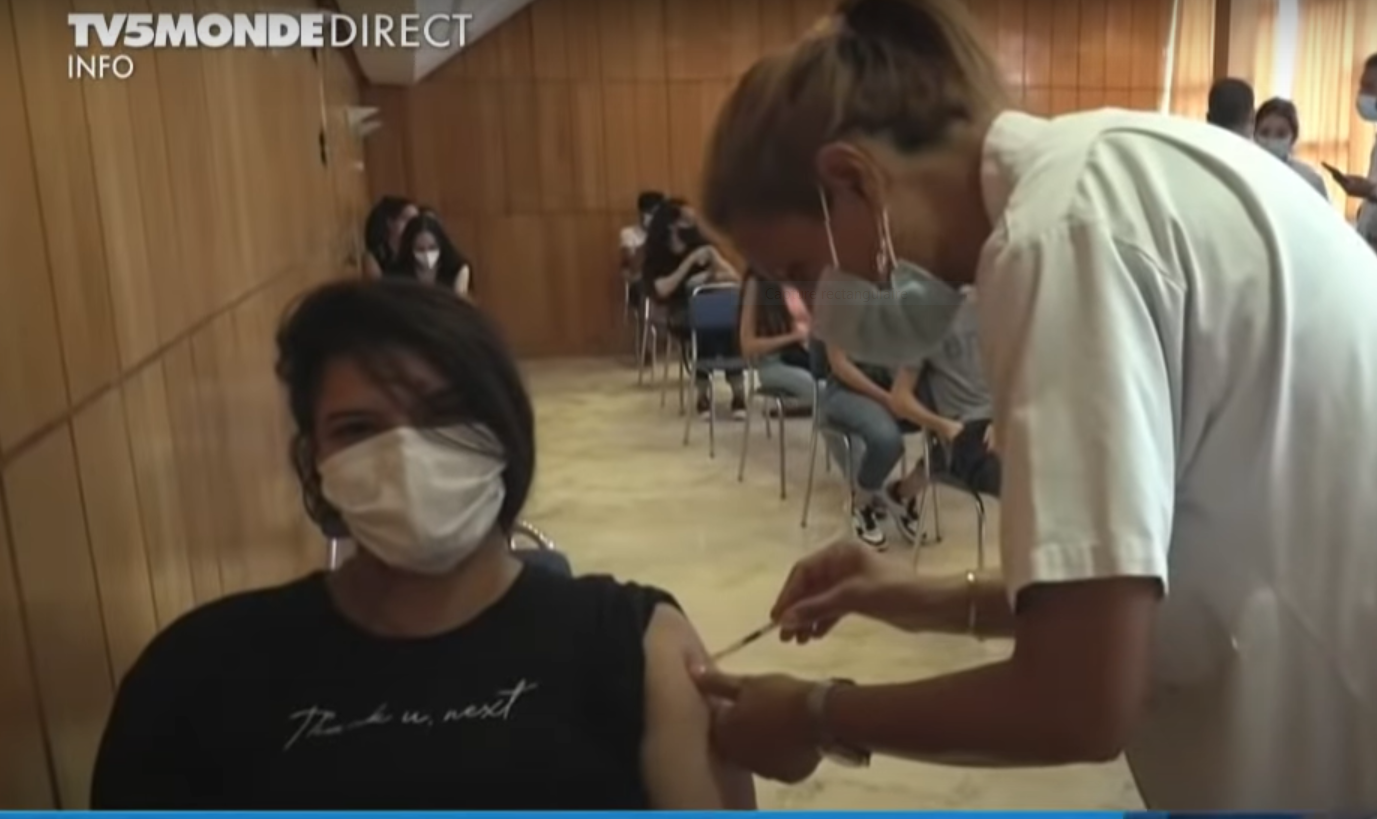with_mask: (317, 372, 513, 568), (764, 198, 965, 323), (672, 210, 700, 243), (415, 234, 439, 269)
